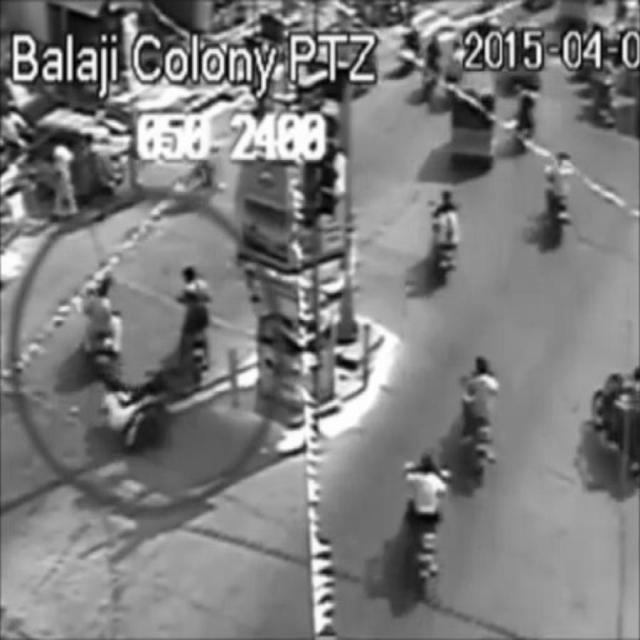vehicle: (401, 449, 448, 600), (104, 367, 181, 455), (458, 353, 500, 495), (80, 277, 126, 387), (178, 262, 216, 394), (451, 80, 493, 164), (544, 150, 574, 248), (431, 187, 457, 285)
